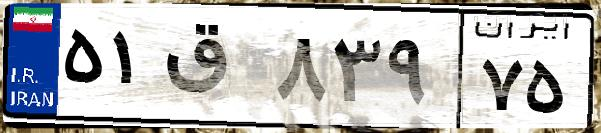1: (110, 28, 158, 98)
3: (330, 28, 385, 110)
5: (57, 26, 110, 100), (525, 38, 570, 115)
7: (475, 38, 525, 113)
8: (270, 28, 330, 110)
9: (385, 28, 445, 110)
ق: (158, 20, 270, 120)
